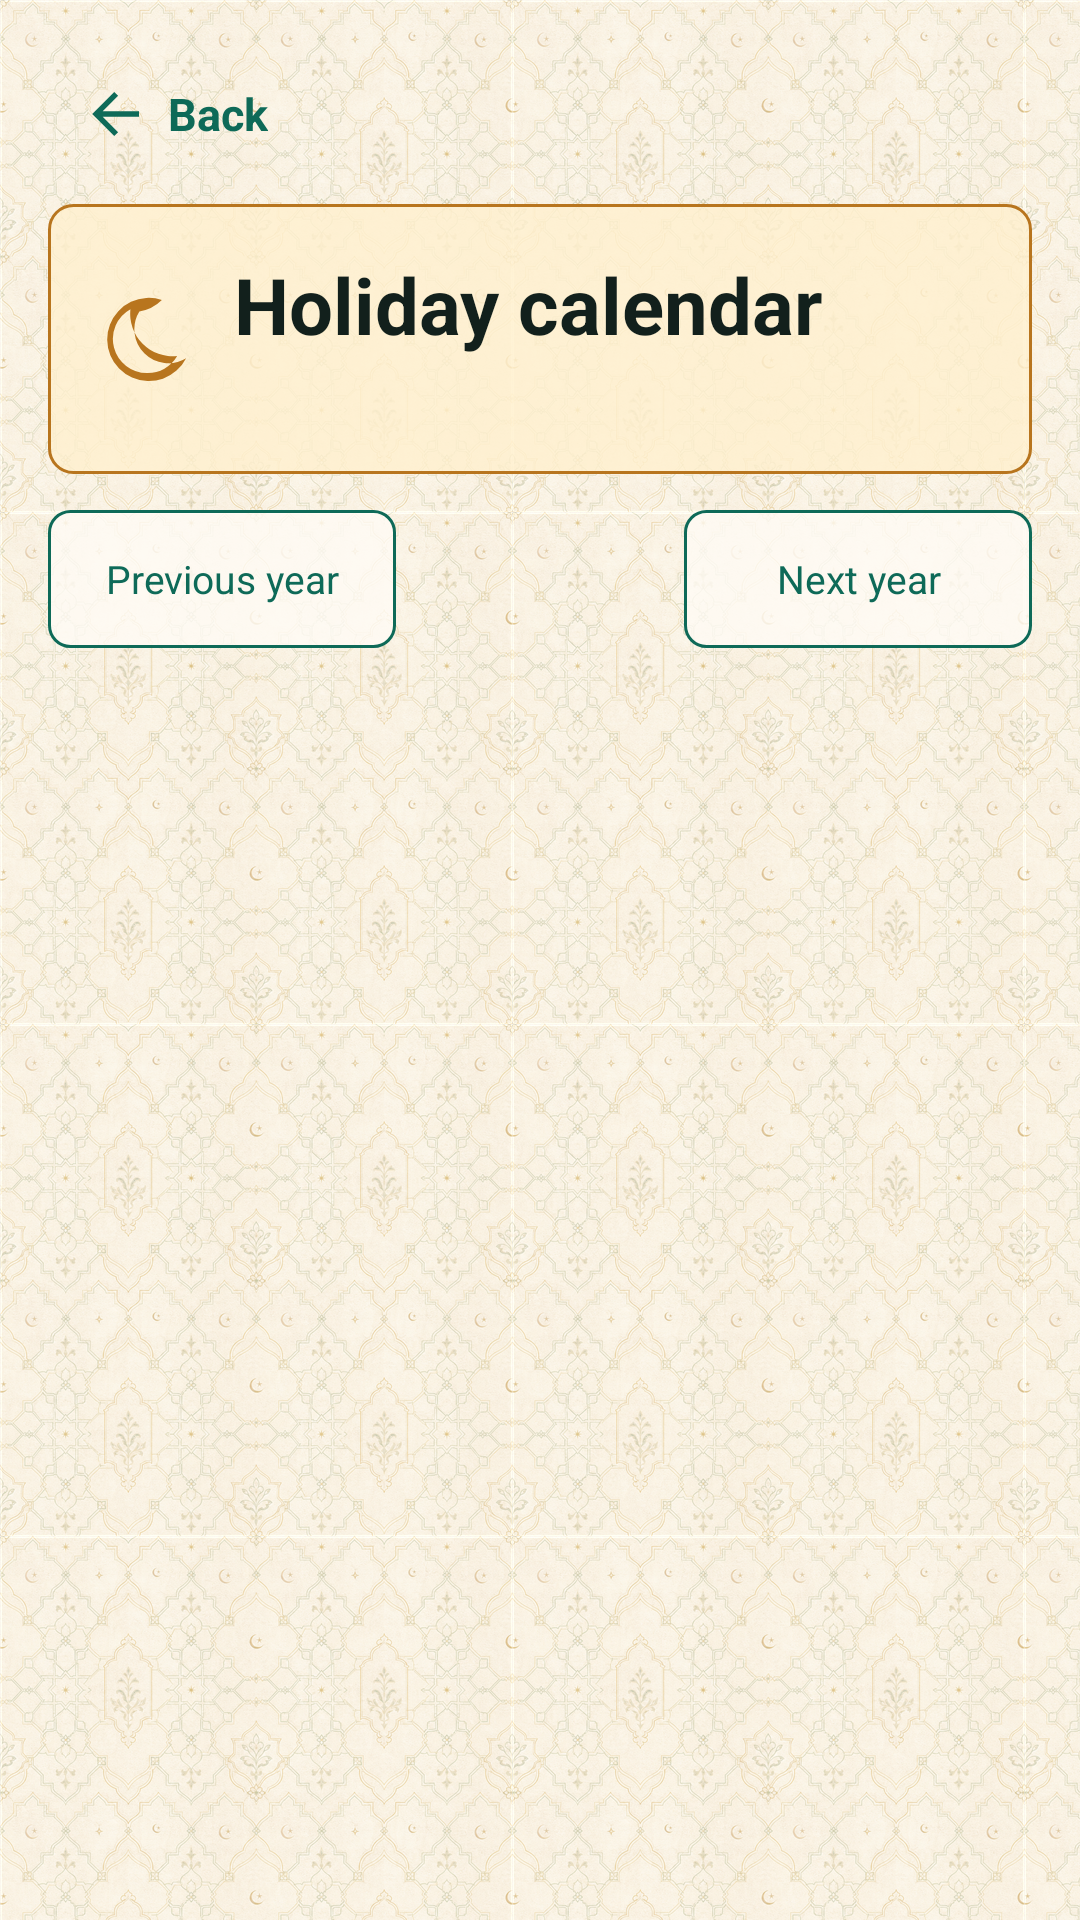

Icon bounding boxes for this 1080*1920 phone screenshot, format [x1=x1, y1=y1, x2=x2, y2=y2]:
moon: [x1=107, y1=297, x2=186, y2=381]
